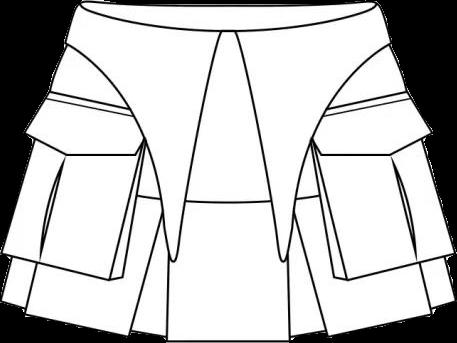Hemline: (234, 32, 392, 262), (66, 32, 223, 262), (0, 298, 456, 342)
Waistline: (79, 1, 377, 33)
